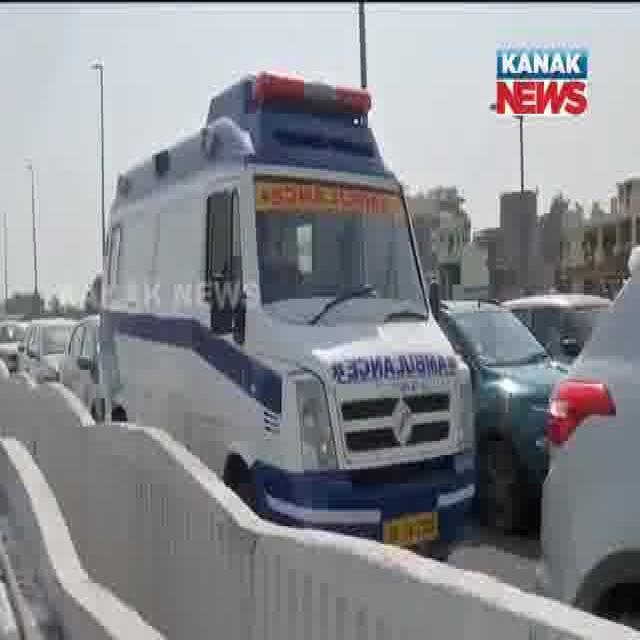ambulance: (91, 62, 479, 574)
